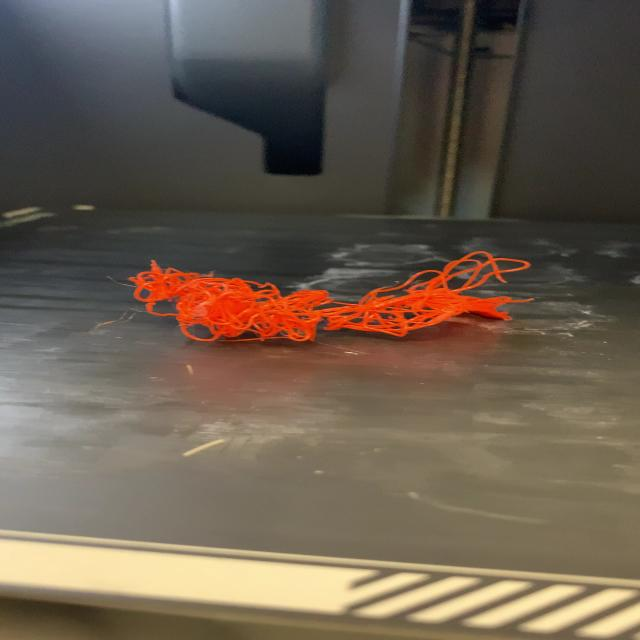spaghetti: (111, 248, 539, 346)
